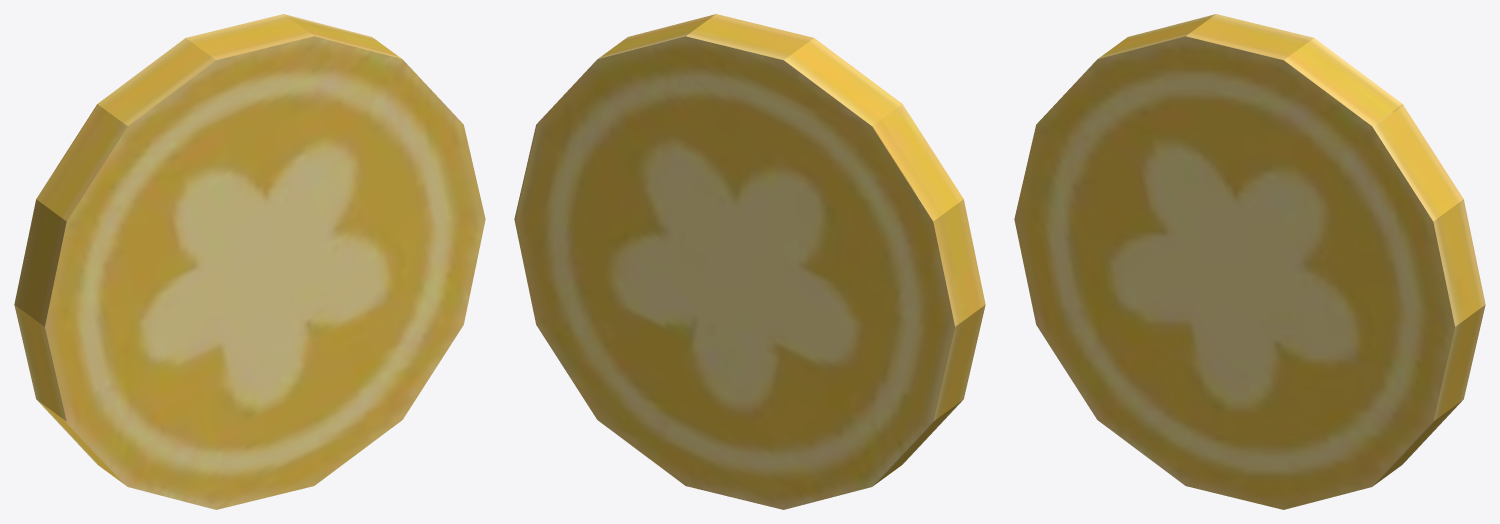
File: coin.glb
3 views of the same model, side by side, from view 1: azimuth 30°, elevation 25°; view 2: azimuth 150°, elevation 25°; view 3: azimuth 330°, elevation 25° (orthographic).
Parts seen in each view (by area): view 1: Coin; view 2: Coin; view 3: Coin.
Boxes of the visible parts, x1,y1,x2,y2 form: Coin: [14, 14, 485, 509]; Coin: [514, 14, 985, 509]; Coin: [1014, 14, 1485, 509].
Size of the model in its own units: 0.1 by 0.0975 by 0.012.
1 material, 1 textured.
